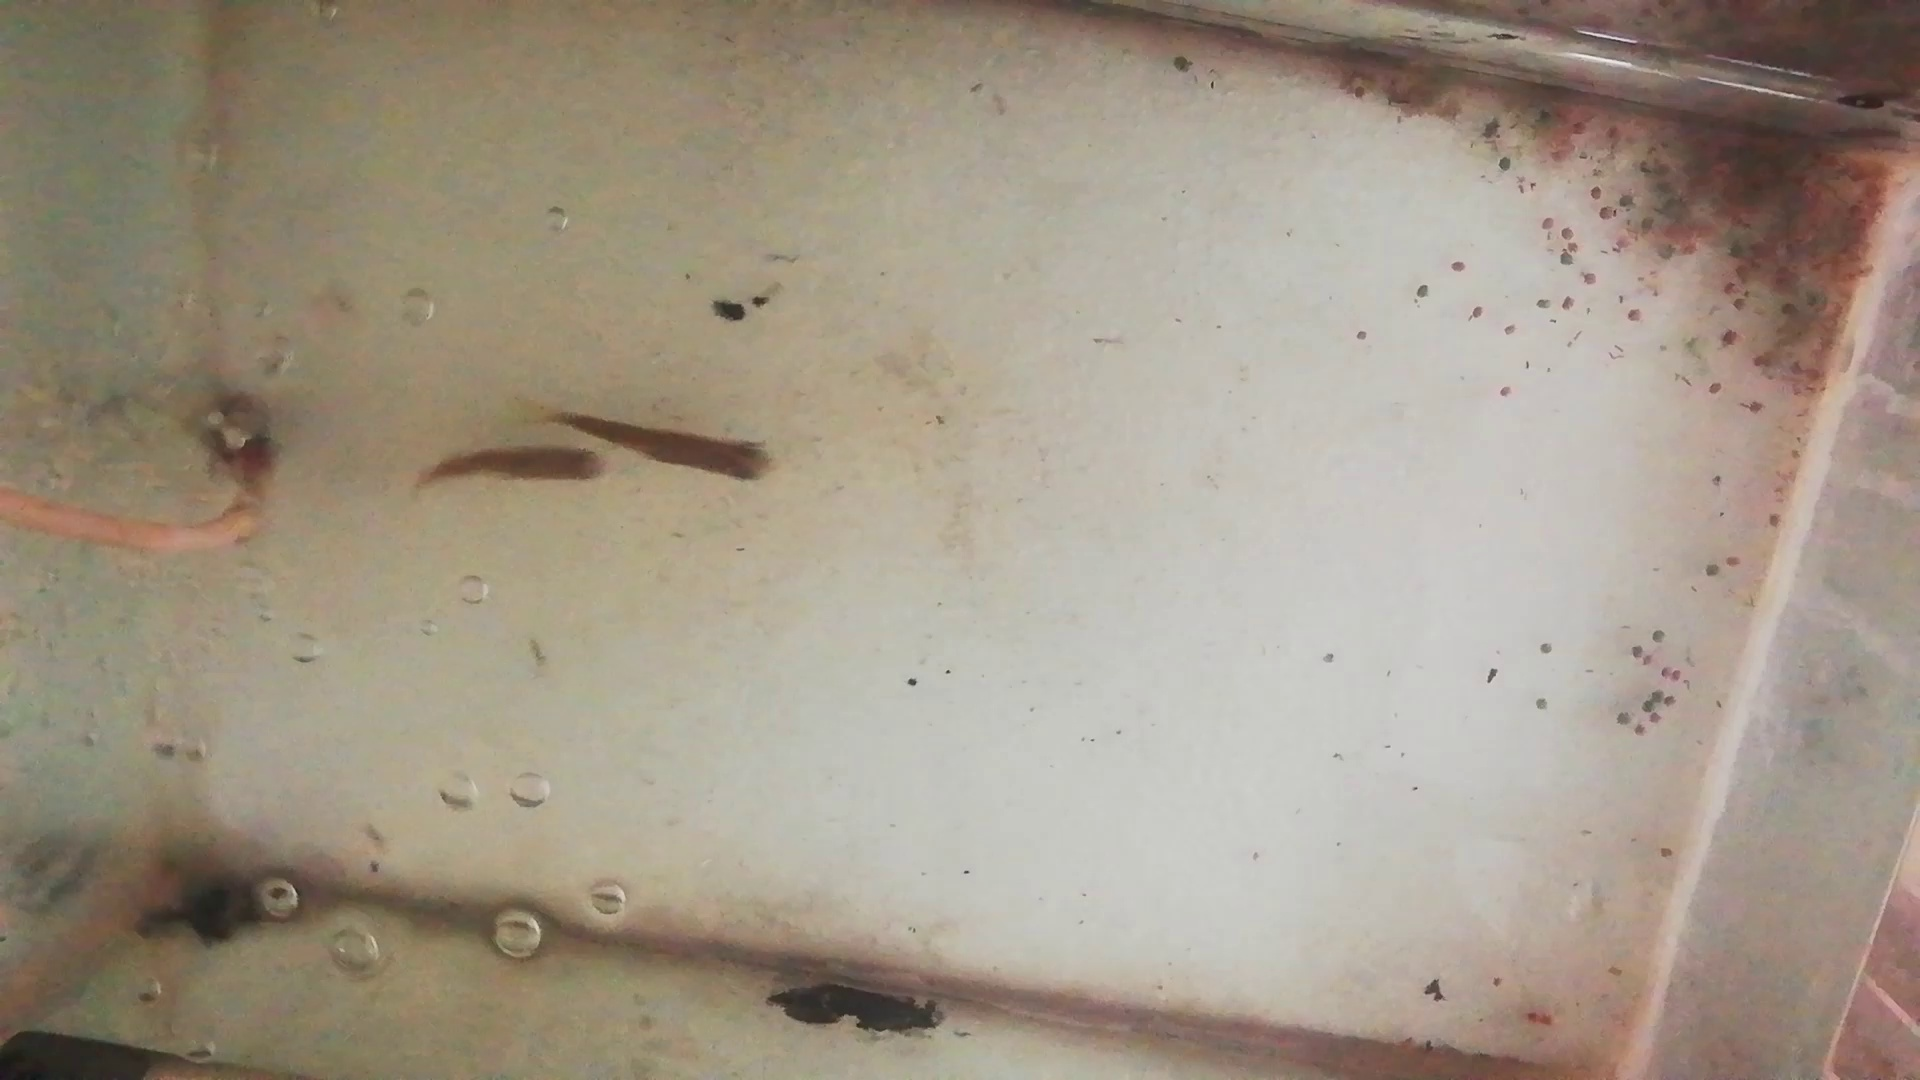fish: (563, 409, 775, 485), (417, 444, 609, 489)
